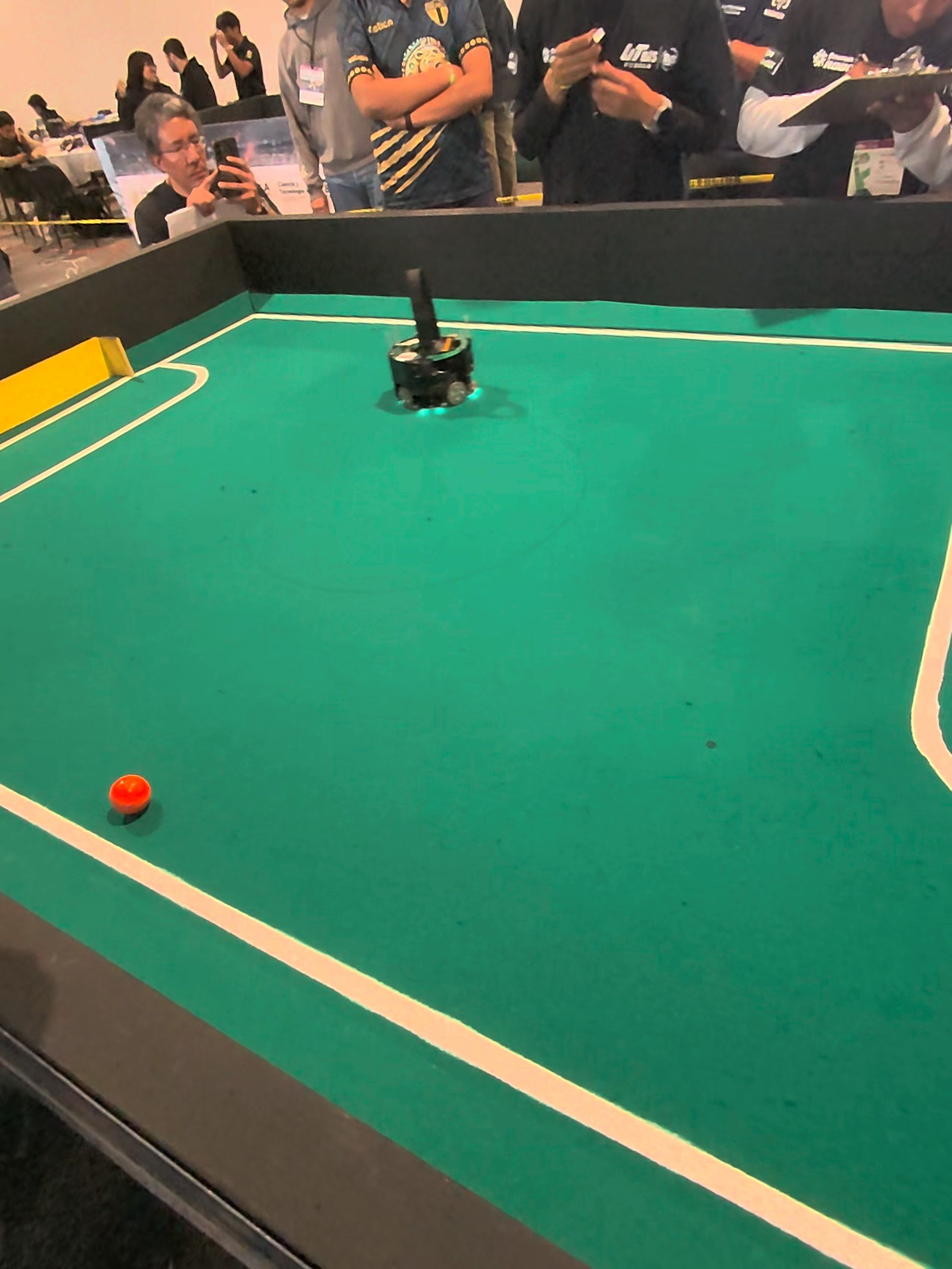Robot: (379, 269, 487, 437)
pelota: (108, 773, 151, 821)
